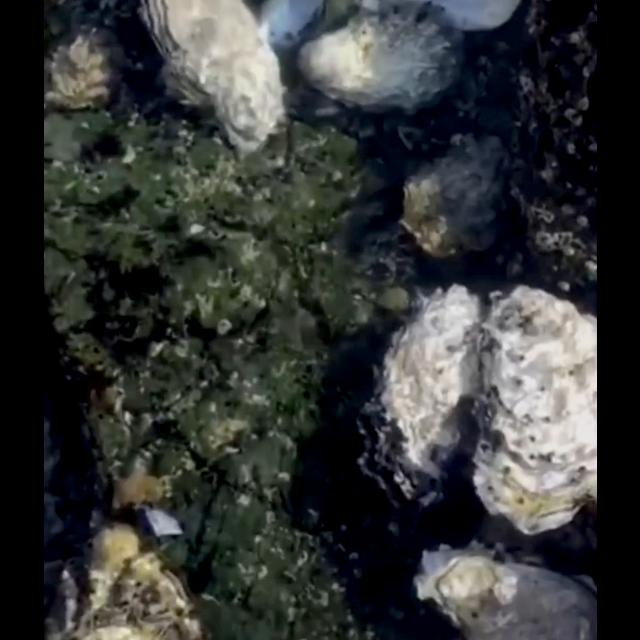Oyster-Closed: (472, 287, 596, 541), (138, 0, 288, 164), (44, 524, 202, 640), (296, 7, 458, 118), (412, 544, 596, 640), (399, 138, 511, 264), (44, 0, 130, 116), (360, 0, 522, 38), (256, 0, 328, 58)
Oyster-Open: (354, 285, 484, 519)
